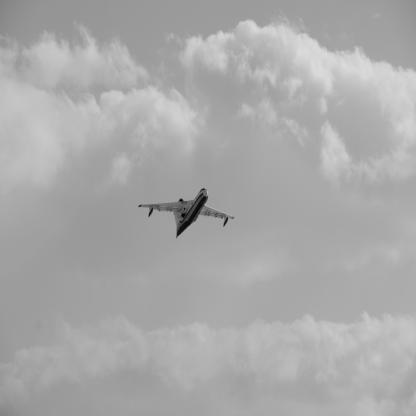Be200: (139, 189, 236, 240)
